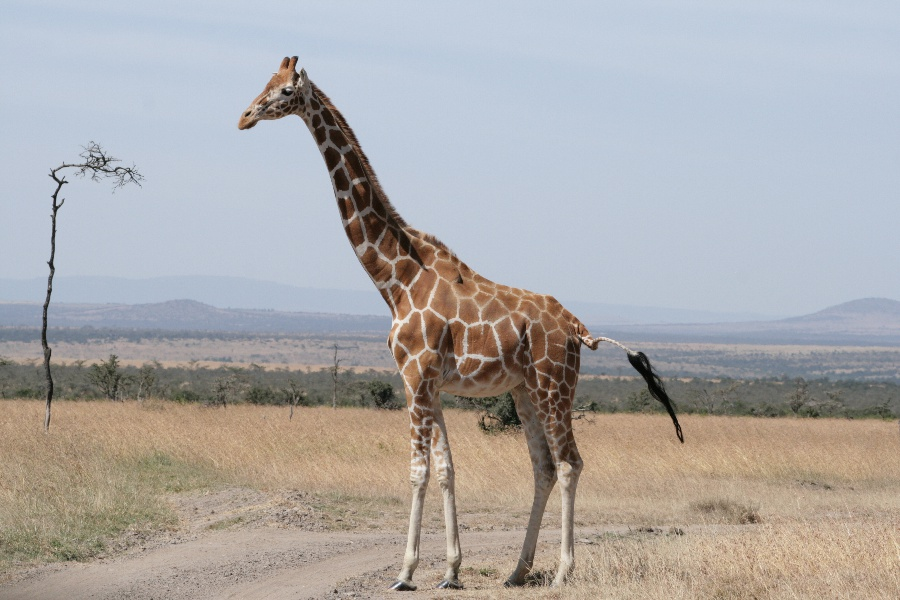giraffe: (230, 46, 675, 594)
